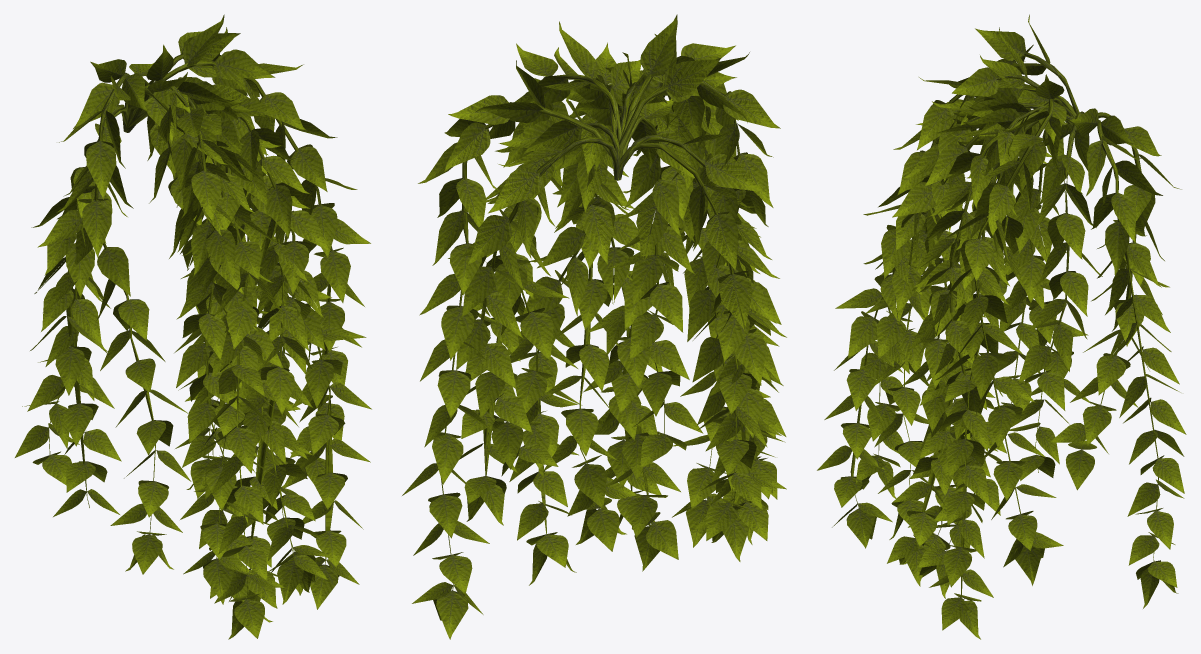
The model's file is plante1.gltf.
The picture shows the model from 3 angles, left to right: view 1: azimuth 30°, elevation 25°; view 2: azimuth 150°, elevation 25°; view 3: azimuth 270°, elevation 25°; orthographic projection. The views are drawn at different scales.
Parts seen in each view (by area): view 1: GrowFX01; view 2: GrowFX01; view 3: GrowFX01.
Part boxes in pixels (x1,y1,x2,y2): GrowFX01: (15, 14, 371, 639); GrowFX01: (402, 14, 786, 639); GrowFX01: (817, 14, 1186, 639).
Bounding box in the file's own units: 0.2875 × 0.5045 × 0.3103.
1 material, 1 textured.
